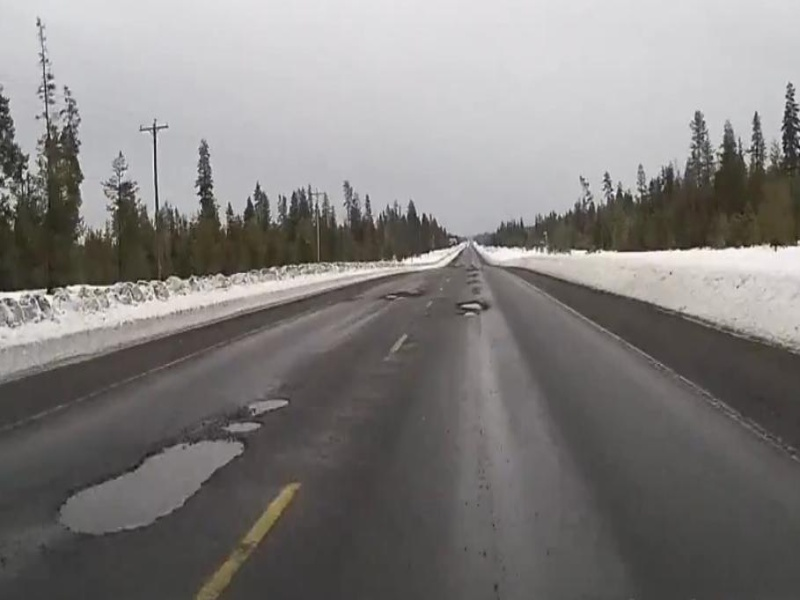pothole: (56, 433, 246, 542), (243, 394, 295, 413), (217, 419, 270, 433), (456, 295, 489, 313)
